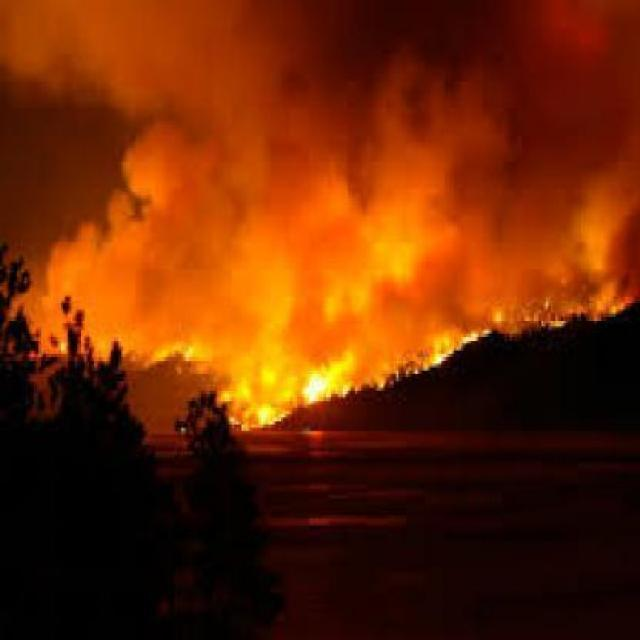Fire: (66, 243, 640, 442)
Smoke: (94, 3, 640, 252)
